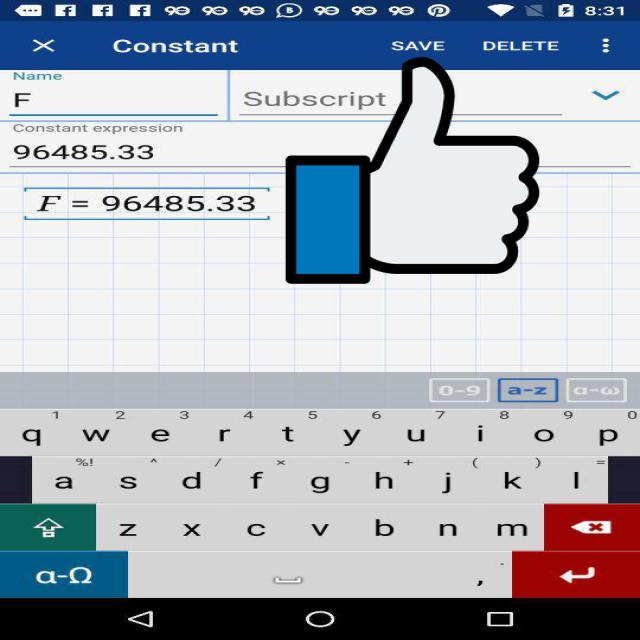privacy zuckering: (286, 52, 539, 289)
